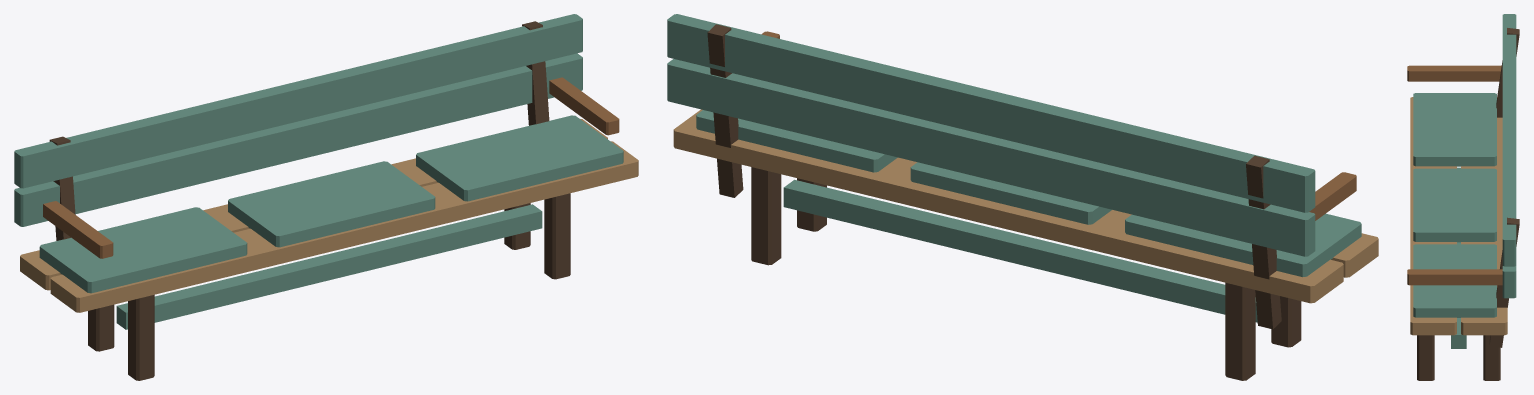
The model's file is chairs_hall.glb.
3 renders of one model, left to right at view 1: azimuth 30°, elevation 25°; view 2: azimuth 150°, elevation 25°; view 3: azimuth 270°, elevation 25°, orthographic. The views are drawn at different scales.
Visible parts, largest first — view 1: geometry; view 2: geometry; view 3: geometry.
Boxes of the visible parts, x1,y1,x2,y2 form: geometry: (14, 14, 638, 380); geometry: (667, 14, 1378, 380); geometry: (1407, 14, 1519, 380).
Bounding box in the file's own units: 2.75 × 0.9541 × 0.5772.
